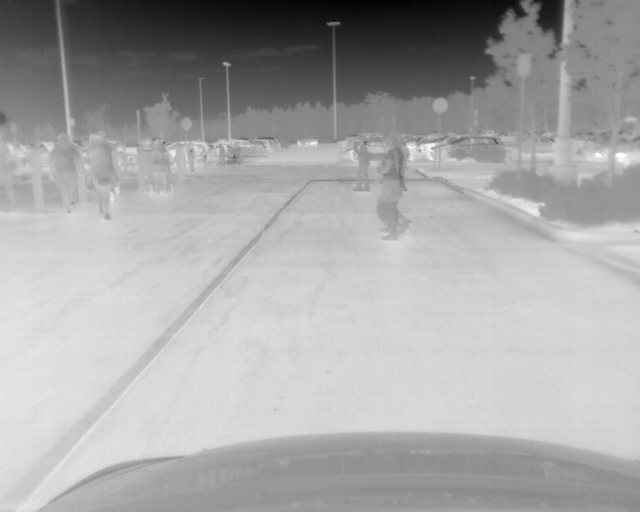car: (431, 136, 504, 163), (521, 137, 571, 156), (165, 142, 204, 162), (223, 139, 257, 148), (264, 137, 276, 154), (257, 139, 268, 155), (298, 137, 317, 145)
people: (48, 136, 80, 214), (375, 135, 396, 240), (392, 133, 412, 241), (89, 136, 111, 221), (101, 141, 121, 203), (1, 142, 17, 213), (352, 136, 371, 194), (150, 140, 168, 196), (188, 142, 197, 177), (215, 142, 225, 165), (200, 147, 207, 172)
